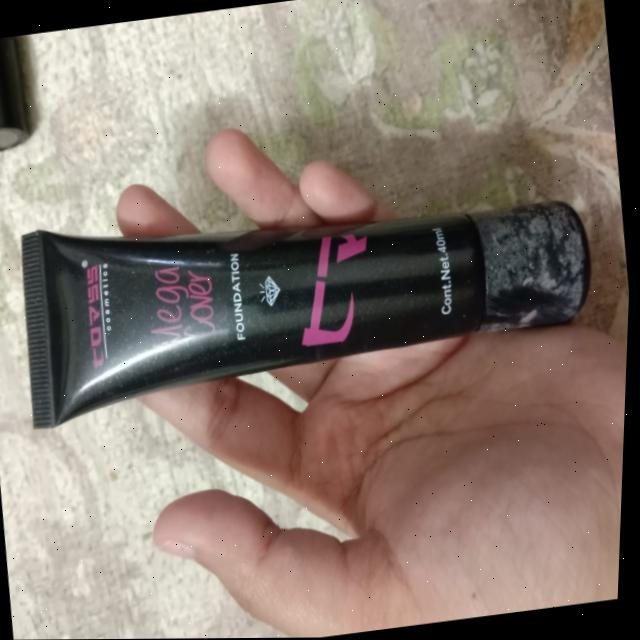foundation: (0, 106, 627, 453)
